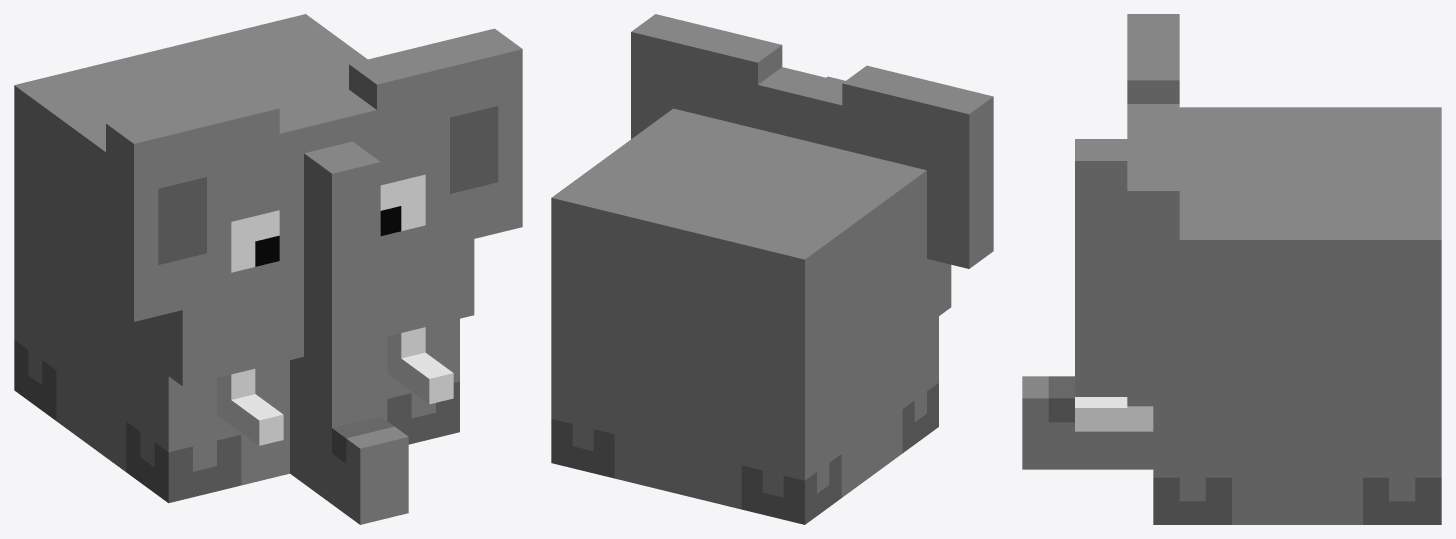
The model's file is elephant.obj.
The picture shows the model from 3 angles, left to right: view 1: azimuth 30°, elevation 25°; view 2: azimuth 150°, elevation 25°; view 3: azimuth 270°, elevation 25°; orthographic projection. The views are drawn at different scales.
Parts seen in each view (by area): view 1: elephant; view 2: elephant; view 3: elephant.
Boxes of the visible parts, box(x1,y1,x2,y2) form: elephant: box(14, 14, 522, 524); elephant: box(551, 14, 993, 524); elephant: box(1022, 14, 1441, 524).
Bounding box in the file's own units: 16 × 15 × 16.
Materials: 1 (1 with a texture image).
